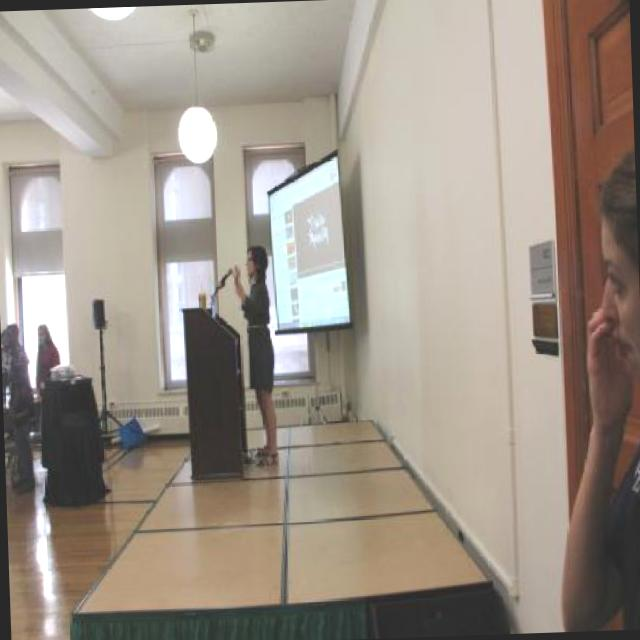Person: (547, 148, 640, 631), (224, 245, 276, 468), (7, 325, 36, 498), (34, 326, 66, 459), (1, 322, 16, 401)
